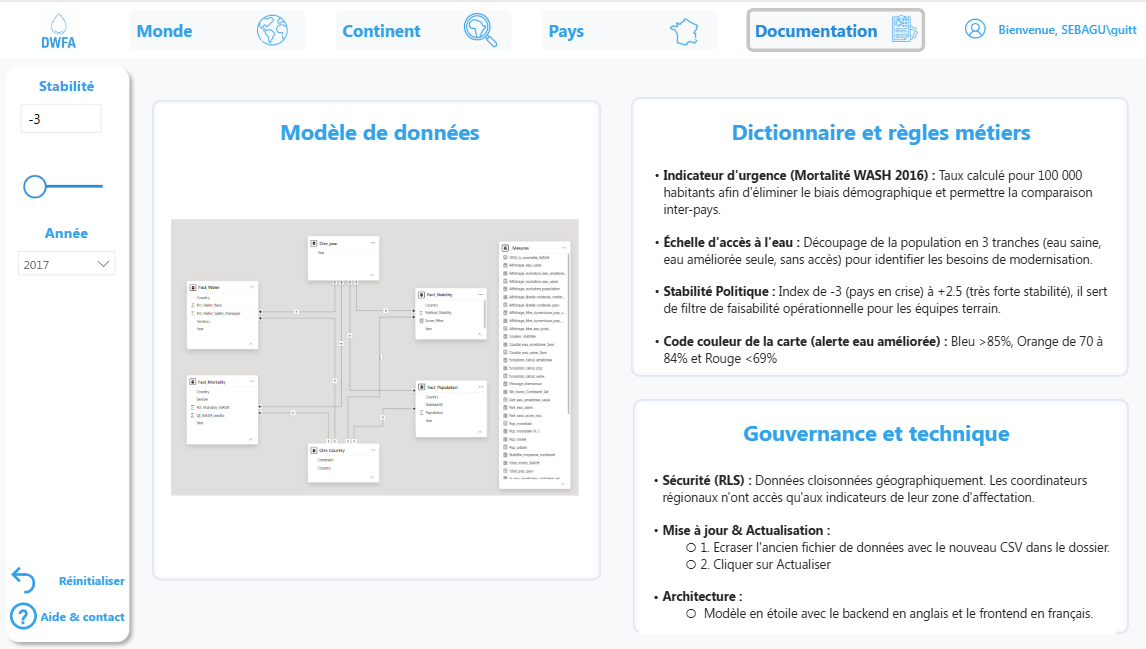

The dashboard page shown, as its layout file describes it:
{"tool":"powerbi","page":{"name":"Documentation","canvas":[1280,720],"ordinal":3},"visuals":[{"type":"shape","box":[0,0,1280,62.9],"z":0},{"type":"pageNavigator","box":[144.7,7.1,887.1,49.4],"z":1000},{"type":"shape","box":[0,63.3,155,656.7],"z":2000},{"type":"shape","box":[171.2,108.8,498.8,533.8],"z":3000},{"type":"image","box":[46,6.7,44,52],"z":4000},{"type":"actionButton","box":[12.5,662.5,132.5,40],"z":5000},{"type":"actionButton","box":[12.5,622.5,132.5,40],"z":6000},{"type":"slicer","title":"Stabilité","fields":{"Values":["Fact_Stability.Score_Filtre"]},"box":[12.4,82.4,127.6,171.8],"z":7000},{"type":"slicer","title":"Année","fields":{"Values":["Dim_year.Year"]},"box":[12.4,245.9,127.6,73.5],"z":8000},{"type":"shape","box":[12.9,146.5,110.6,37.6],"z":9000},{"type":"cardVisual","fields":{"Data":["Projects_plans.Message_Bienvenue"]},"box":[1106.8,0,169.9,56.2],"z":10000},{"type":"image","box":[287.7,12.4,33.8,37.5],"z":11000},{"type":"image","box":[516.4,12.4,38.8,37.5],"z":12000},{"type":"image","box":[743.3,12.4,38.1,42.5],"z":13000},{"type":"shape","box":[703.8,105,552.5,311.2],"z":14000},{"type":"image","box":[992.7,12.4,31.2,33.8],"z":15000},{"type":"textbox","box":[192.5,122.5,463.8,46.2],"z":16000},{"type":"image","box":[1074.7,16.1,22.7,28.1],"z":17000},{"type":"textbox","box":[715,122.5,531.2,42.5],"z":19000},{"type":"textbox","box":[713.8,177.5,530,232.5],"z":20000},{"type":"shape","box":[705,441.2,551.2,261.2],"z":21000},{"type":"textbox","box":[712.5,456.2,527.5,48.8],"z":22000},{"type":"textbox","box":[712.5,516.2,530,186.2],"z":23000},{"type":"shape","box":[6.2,72.5,140,647.5],"z":25000},{"type":"image","box":[192.5,193.8,452.5,402.5],"z":26000}]}

Visuals, with their boxes on the page's 1280x720 design canvas (x1, y1, x2, y2). These are canvas units, not pixel positions in the 1146x649 screenshot, which may show the page scaled, cropped or inside an application window:
shape: <bbox>0, 0, 1280, 63</bbox>
pageNavigator: <bbox>145, 7, 1032, 56</bbox>
shape: <bbox>0, 63, 155, 720</bbox>
shape: <bbox>171, 109, 670, 643</bbox>
image: <bbox>46, 7, 90, 59</bbox>
actionButton: <bbox>12, 662, 145, 702</bbox>
actionButton: <bbox>12, 622, 145, 662</bbox>
"Stabilité" slicer: <bbox>12, 82, 140, 254</bbox>
"Année" slicer: <bbox>12, 246, 140, 319</bbox>
shape: <bbox>13, 146, 124, 184</bbox>
cardVisual - Projects_plans.Message_Bienvenue: <bbox>1107, 0, 1277, 56</bbox>
image: <bbox>288, 12, 322, 50</bbox>
image: <bbox>516, 12, 555, 50</bbox>
image: <bbox>743, 12, 781, 55</bbox>
shape: <bbox>704, 105, 1256, 416</bbox>
image: <bbox>993, 12, 1024, 46</bbox>
textbox: <bbox>192, 122, 656, 169</bbox>
image: <bbox>1075, 16, 1097, 44</bbox>
textbox: <bbox>715, 122, 1246, 165</bbox>
textbox: <bbox>714, 178, 1244, 410</bbox>
shape: <bbox>705, 441, 1256, 702</bbox>
textbox: <bbox>712, 456, 1240, 505</bbox>
textbox: <bbox>712, 516, 1242, 702</bbox>
shape: <bbox>6, 72, 146, 720</bbox>
image: <bbox>192, 194, 645, 596</bbox>
